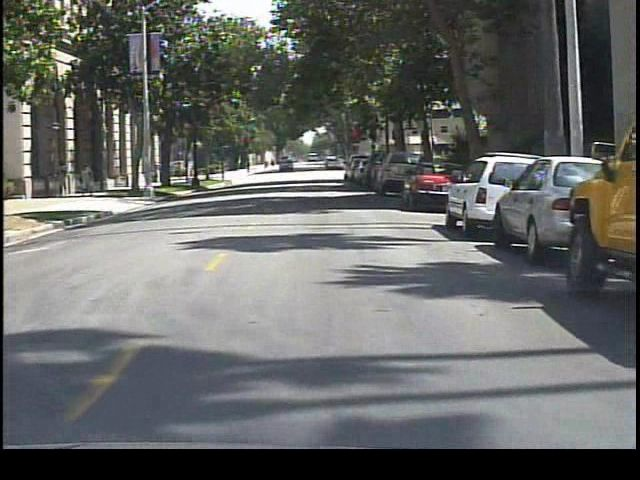person: (79, 160, 102, 199), (55, 155, 75, 197)
